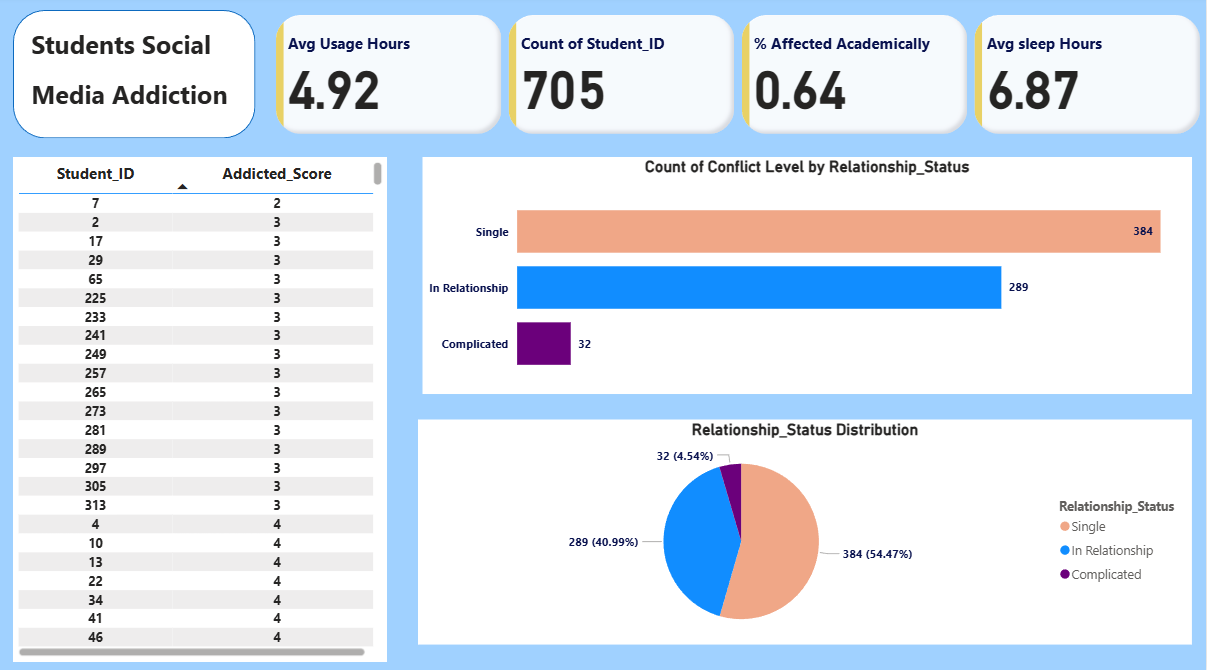

The dashboard page shown, as its layout file describes it:
{"tool":"powerbi","page":{"name":"Relationship  and Conflicts","canvas":[1280,720],"ordinal":3},"visuals":[{"type":"cardVisual","fields":{"Data":["Platform Details.Avg Usage Hours","CountNonNull(Student Details.Student_ID)","Platform Details.% Affected Academically","Student Details.Avg sleep Hours"]},"box":[289.1,15.1,990.2,136.1],"z":0},{"type":"shape","box":[15.1,15.1,257,136.1],"z":1000},{"type":"textbox","box":[30.2,28.3,226.8,109.6],"z":2000},{"type":"barChart","fields":{"Y":["CountNonNull(Student Details.Conflict Level)"],"Category":["Student Details.Relationship_Status"]},"box":[450.1,171.8,816,251.3],"z":3000},{"type":"tableEx","fields":{"Values":["Student Details.Student_ID","Student Details.Addicted_Score"]},"box":[15.9,171.8,396.1,534.4],"z":4000},{"type":"pieChart","title":"Relationship_Status Distribution","fields":{"Category":["Student Details.Relationship_Status"],"Y":["CountNonNull(Student Details.Relationship_Status)"]},"box":[445.4,450.1,820.8,238.6],"z":5000}]}

Visuals, with their boxes in screenshot pixels (x1, y1, x2, y2), scaled from the page's 1280x720 canvas onto the 1207x670 screenshot:
cardVisual - Platform Details.Avg Usage Hours x CountNonNull(Student Details.Student_ID): (273, 14, 1206, 141)
shape: (14, 14, 257, 141)
textbox: (28, 26, 242, 128)
barChart - CountNonNull(Student Details.Conflict Level) x Student Details.Relationship_Status: (424, 160, 1194, 394)
tableEx - Student Details.Student_ID x Student Details.Addicted_Score: (15, 160, 389, 657)
"Relationship_Status Distribution" pieChart: (420, 419, 1194, 641)
